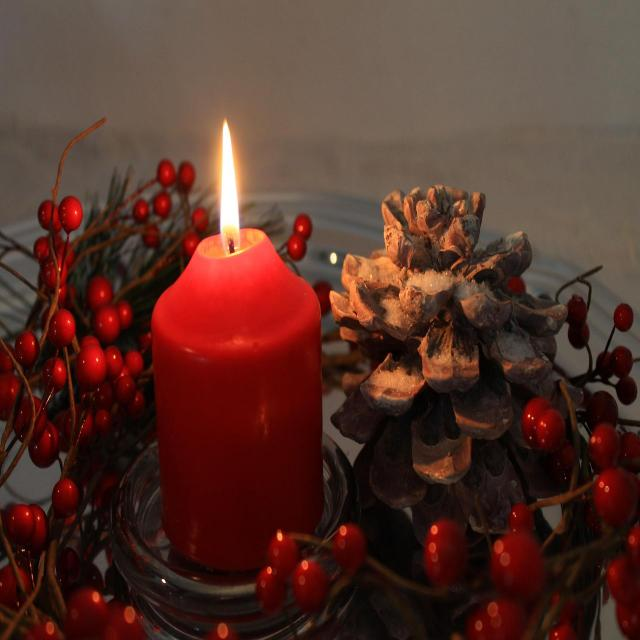Fire_Save: (149, 117, 325, 571)
